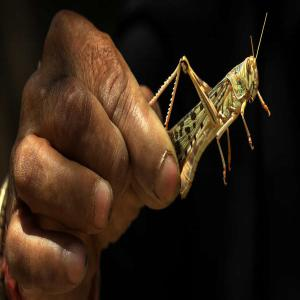locust: (171, 18, 272, 227)
